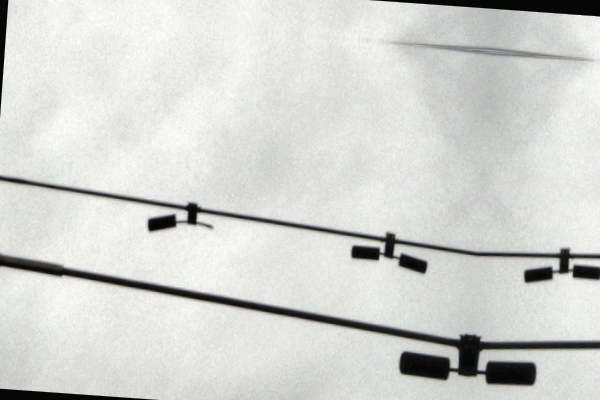damper: (394, 331, 537, 388), (347, 230, 429, 273), (522, 246, 600, 284)
damper_defect: (145, 201, 215, 234)
